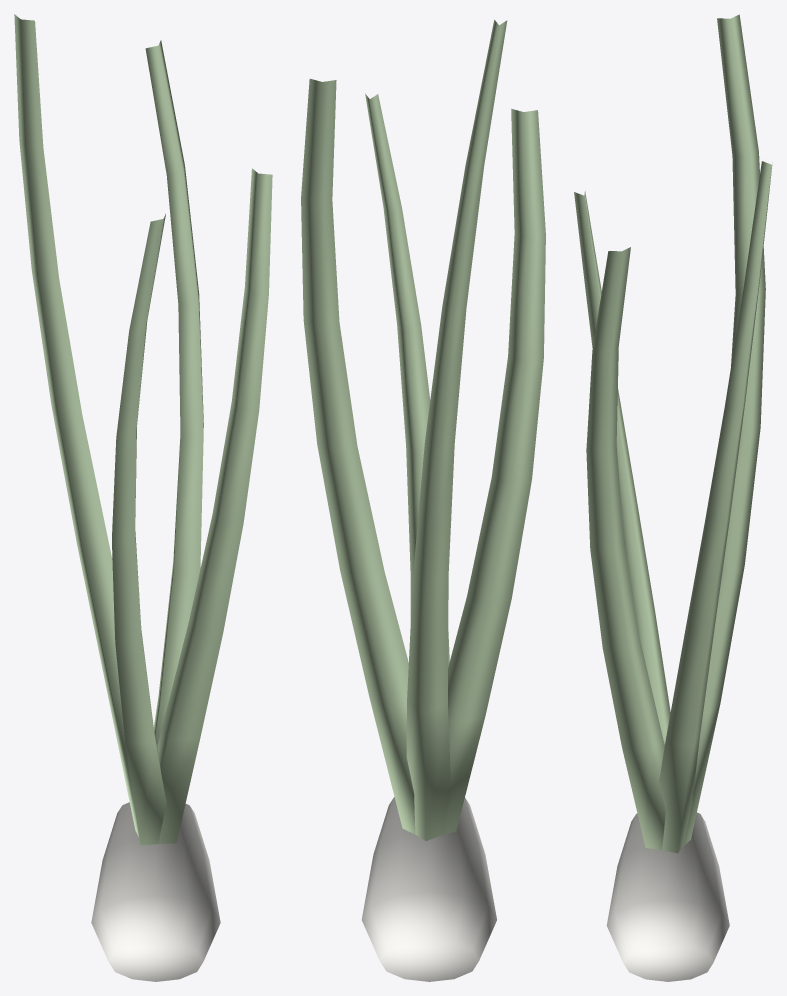
The model's file is scallion_l.glb.
3 renders of one model, left to right at view 1: azimuth 30°, elevation 25°; view 2: azimuth 150°, elevation 25°; view 3: azimuth 270°, elevation 25°, orthographic. The views are drawn at different scales.
Visible parts, largest first — view 1: leaf0, leaf2, bulb, leaf3, leaf1; view 2: leaf1, leaf3, leaf2, bulb, leaf0; view 3: leaf0, leaf1, leaf2, bulb, leaf3.
Part boxes in pixels (x1,y1,x2,y2): leaf0: (157, 168, 272, 843); leaf2: (14, 14, 138, 836); bulb: (91, 802, 220, 981); leaf3: (112, 214, 166, 845); leaf1: (145, 40, 203, 746); leaf1: (301, 78, 415, 833); leaf3: (440, 108, 545, 835); leaf2: (406, 20, 507, 841); bulb: (361, 797, 496, 981); leaf0: (365, 93, 449, 667); leaf0: (586, 247, 665, 849); leaf1: (659, 161, 772, 853); leaf2: (683, 14, 765, 845); bulb: (606, 812, 729, 981); leaf3: (574, 191, 670, 744).
Bounding box in the file's own units: 0.0561 × 0.2662 × 0.0533.
